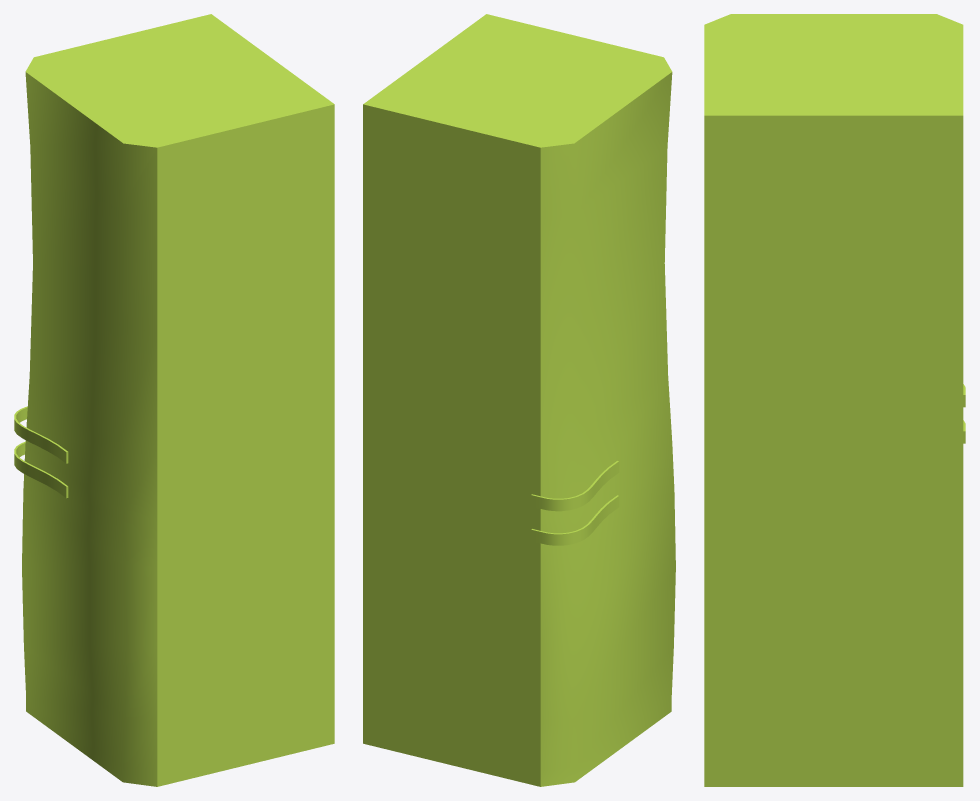
Rendered from Kitchen_fridge.FBX.
The picture shows the model from 3 angles, left to right: view 1: azimuth 30°, elevation 25°; view 2: azimuth 150°, elevation 25°; view 3: azimuth 270°, elevation 25°; orthographic projection. The views are drawn at different scales.
Parts seen in each view (by area): view 1: Fridge001; view 2: Fridge001; view 3: Fridge001.
Boxes of the visible parts, x1=… form: Fridge001: x1=14, y1=14, x2=334, y2=786; Fridge001: x1=363, y1=14, x2=675, y2=786; Fridge001: x1=704, y1=14, x2=965, y2=786.
Bounding box in the file's own units: 67.99 × 200 × 70.64.
